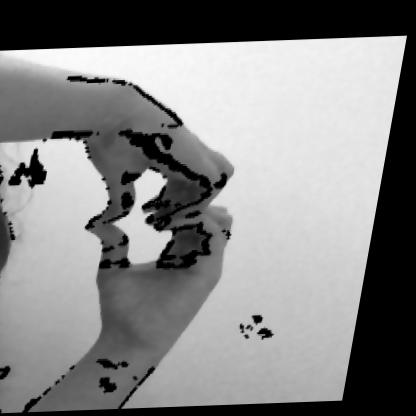heart: (49, 79, 278, 354)
